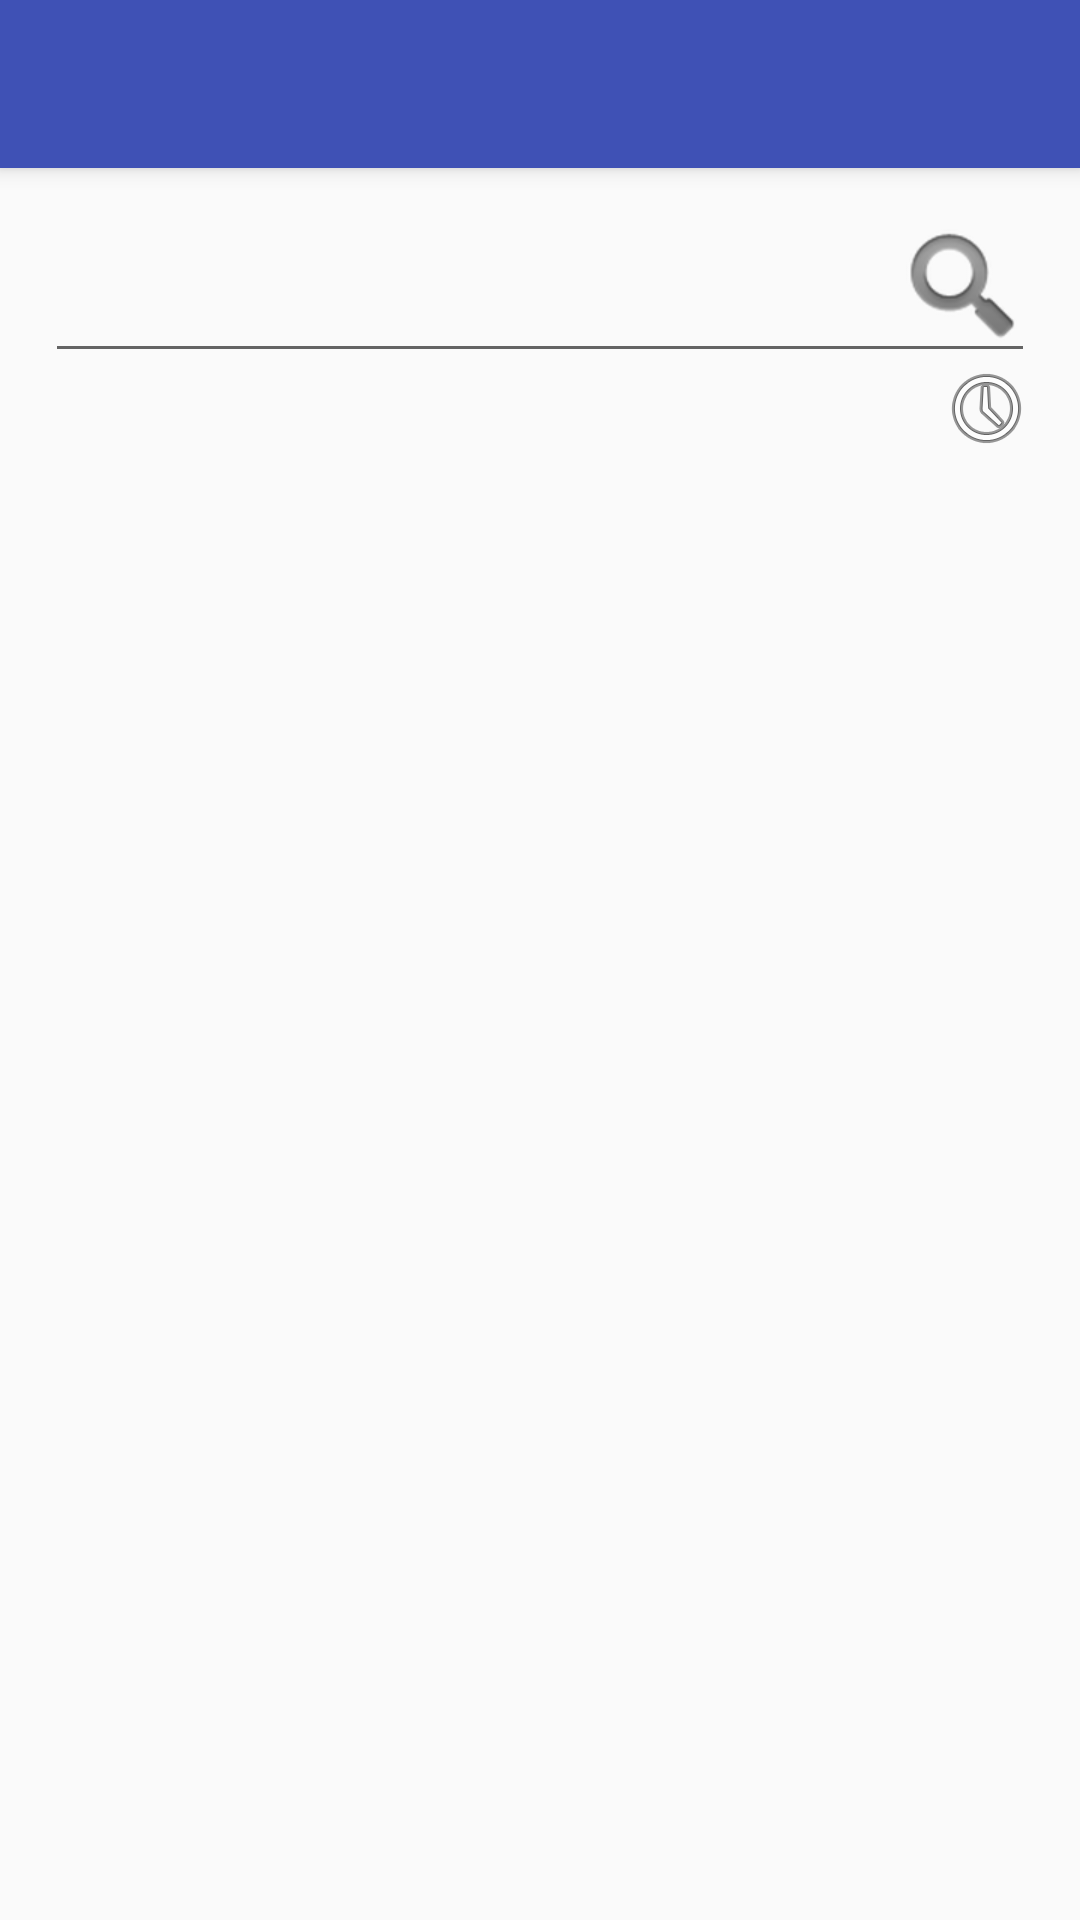

Icon bounding boxes for this 1080 x 1920 phone screenshot, format BBox(x1, y1, x2, y2):
recent history: BBox(952, 374, 1021, 443)
search category: BBox(910, 233, 1014, 337)
